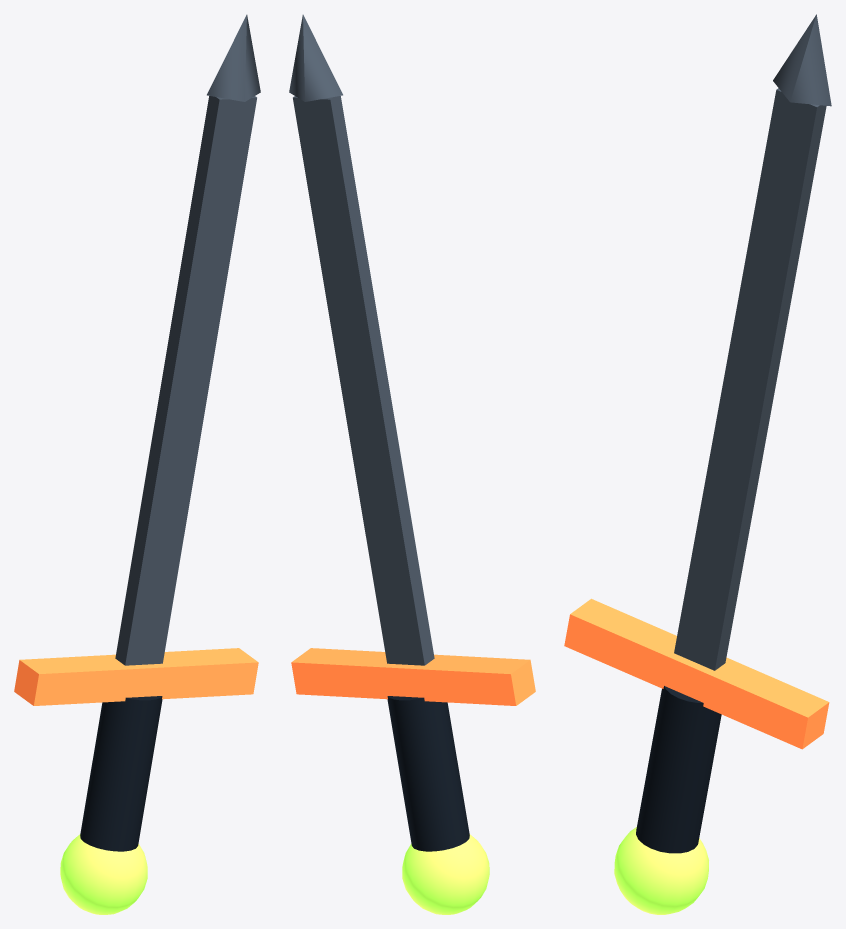
File: energy-sword.glb
3 renders of one model, left to right at view 1: azimuth 30°, elevation 25°; view 2: azimuth 150°, elevation 25°; view 3: azimuth 330°, elevation 25°, orthographic. The views are drawn at different scales.
Size of the model in its own units: 1.11 by 3.87 by 0.36.
